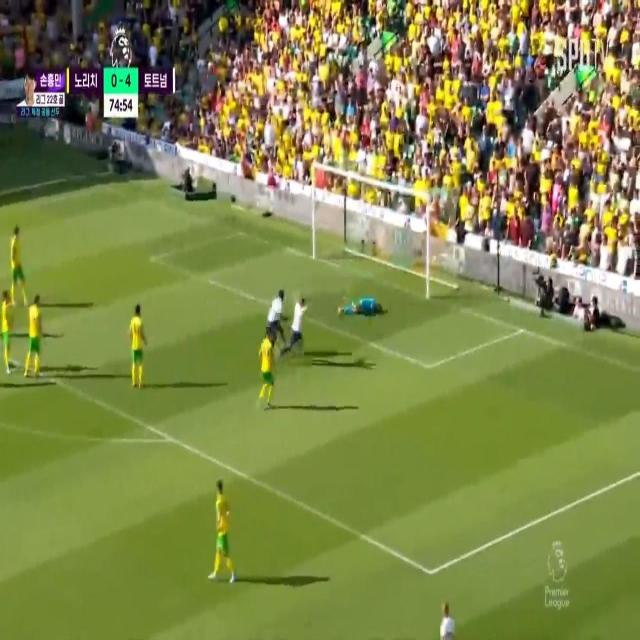player: (24, 290, 45, 377), (212, 482, 230, 580), (257, 330, 279, 410), (265, 288, 287, 350), (287, 293, 309, 354), (129, 297, 143, 391), (8, 229, 24, 309), (434, 593, 458, 640), (0, 288, 12, 381)
